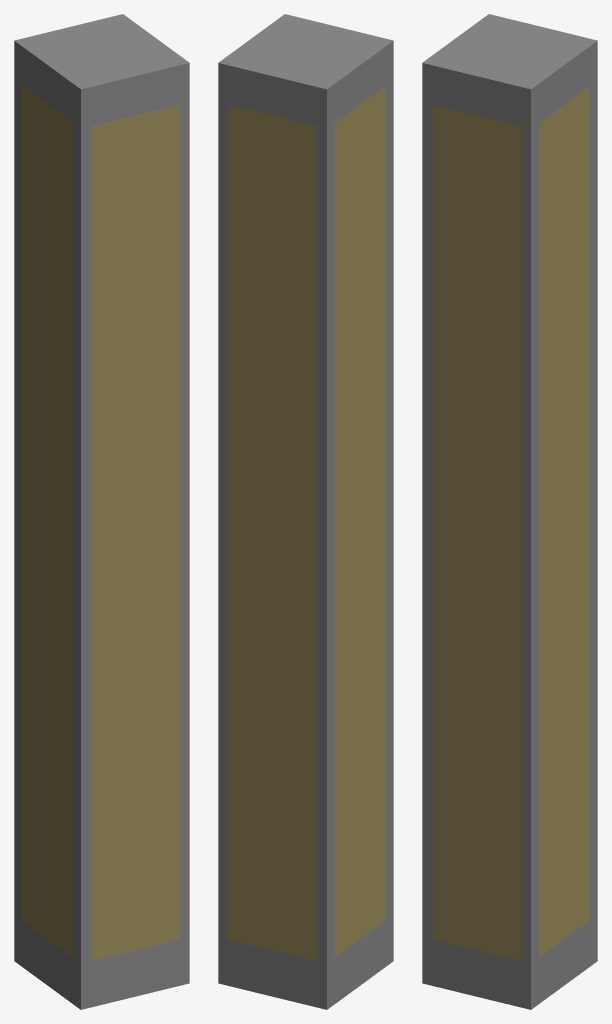
Rendered from Piller.fbx.
3 views of the same model, side by side, from view 1: azimuth 30°, elevation 25°; view 2: azimuth 150°, elevation 25°; view 3: azimuth 330°, elevation 25° (orthographic).
Visible parts, largest first — view 1: Cube.001; view 2: Cube.001; view 3: Cube.001.
Part boxes in pixels (<box>): Cube.001: <box>14,14,189,1009</box>; Cube.001: <box>218,14,393,1009</box>; Cube.001: <box>422,14,597,1009</box>.
Bounding box in the file's own units: 32.55 × 263 × 34.57.
